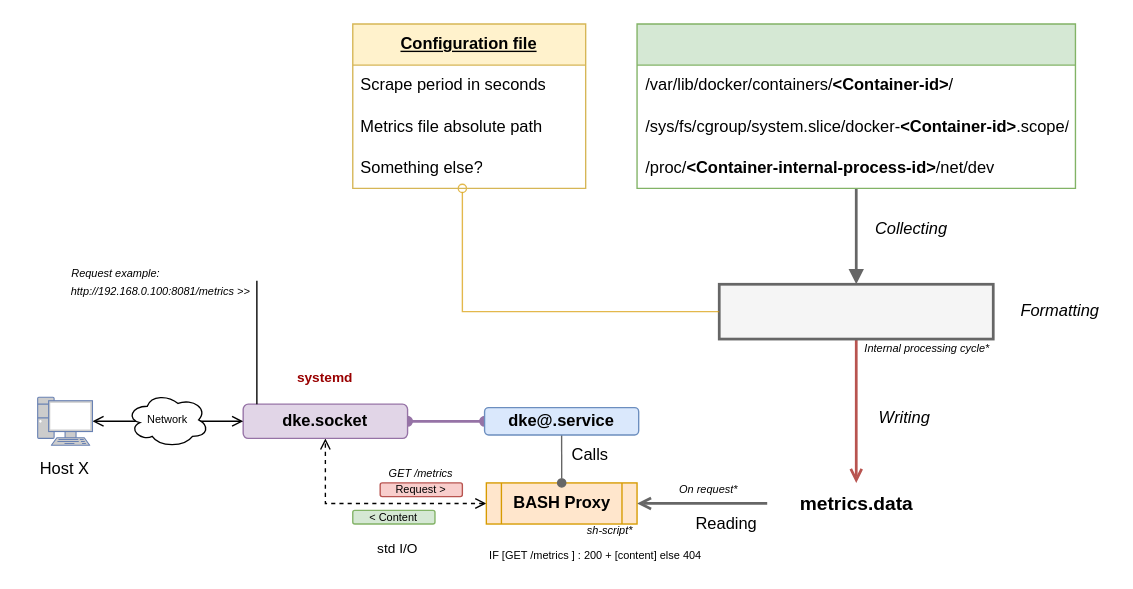
Some shapes in this 1133 by 589 pixel diagram are drawn without their labels. The box of each missing label's shape, as (x1, y1, x2, y2) in pixels:
Metrics Collector Util: (717, 282, 994, 340)
Sources: (636, 23, 1075, 188)
